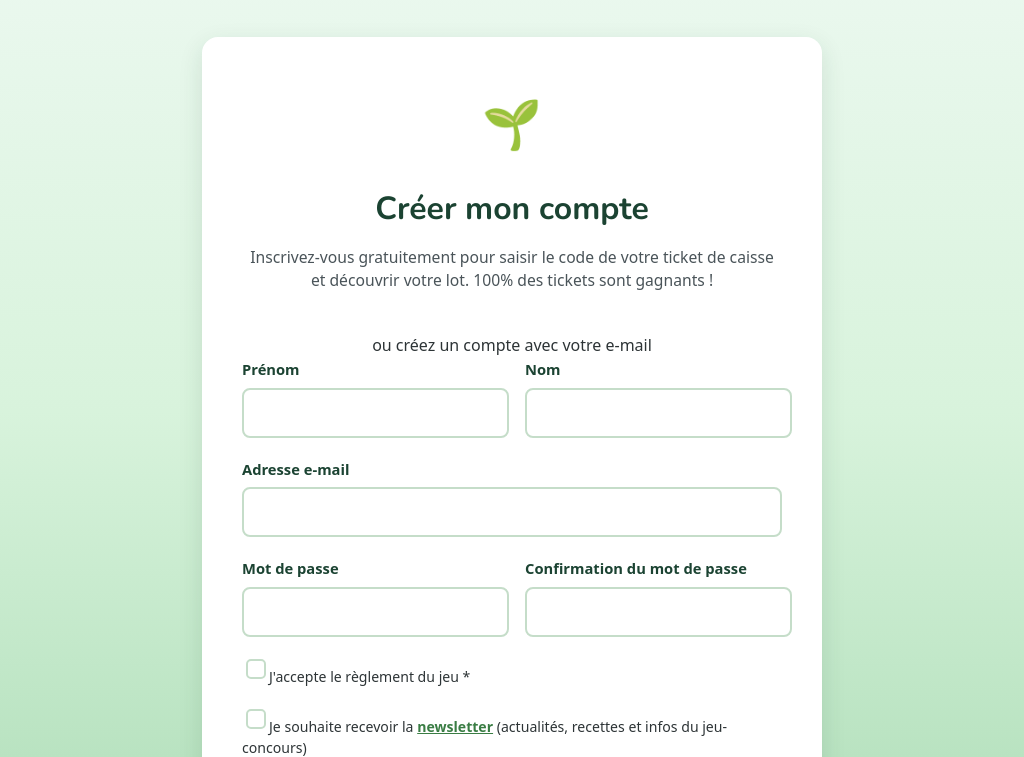
Test: Inscription › refuse un mot de passe trop court
Type "Jean" into the field labelled "Prénom".
click(376, 413); type("Jean")  # box [242,388,509,438]
Type "Dupont" into the field labelled "Nom".
click(658, 413); type("Dupont")  # box [525,388,792,438]
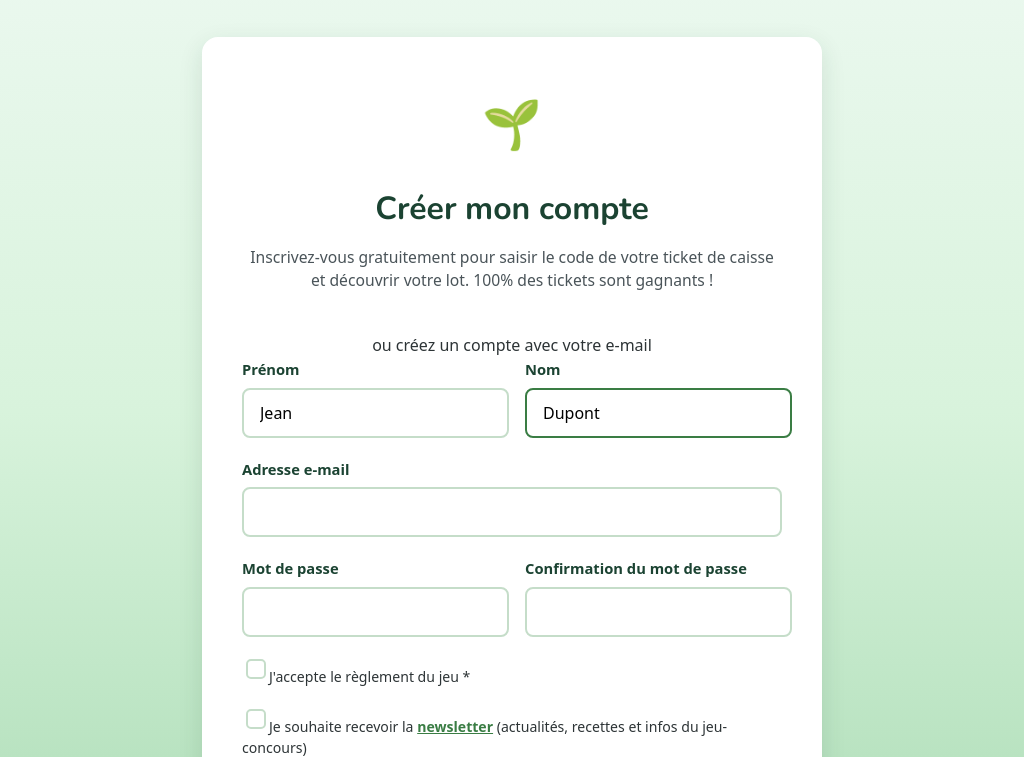
Type "jean@example.com" into the field labelled "Adresse e-mail".
click(512, 512); type("jean@example.com")  # box [242,487,782,537]
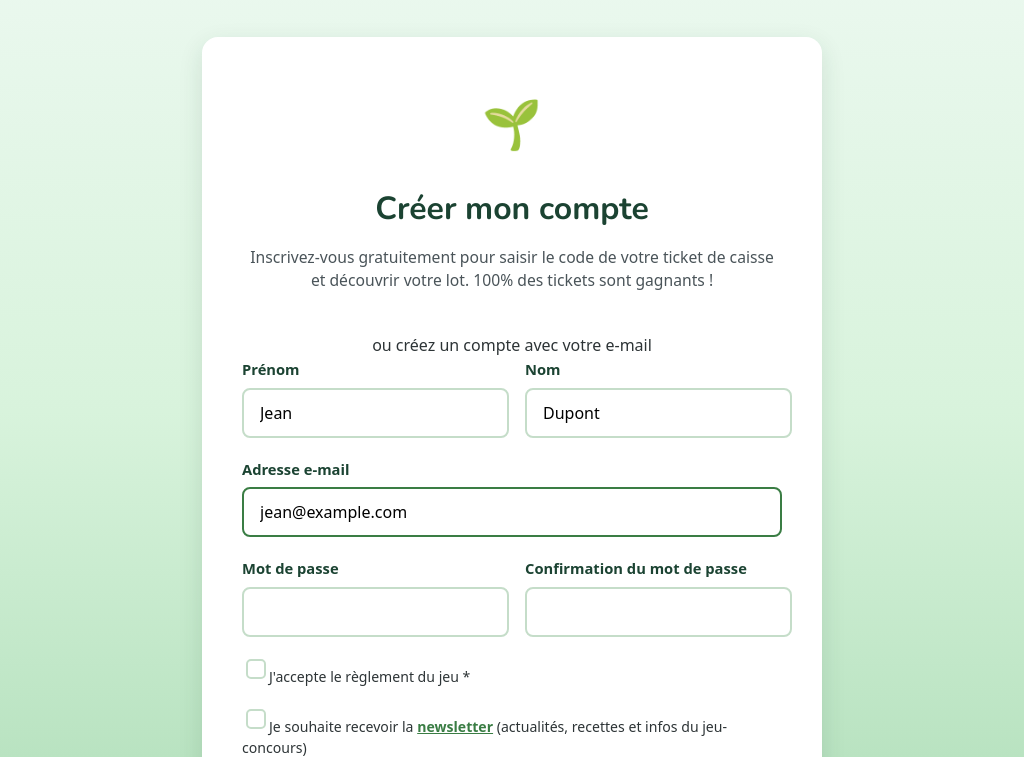
Type "Ab1!" into the password field labelled "Mot de passe".
click(376, 612); type("Ab1!")  # box [242,587,509,637]
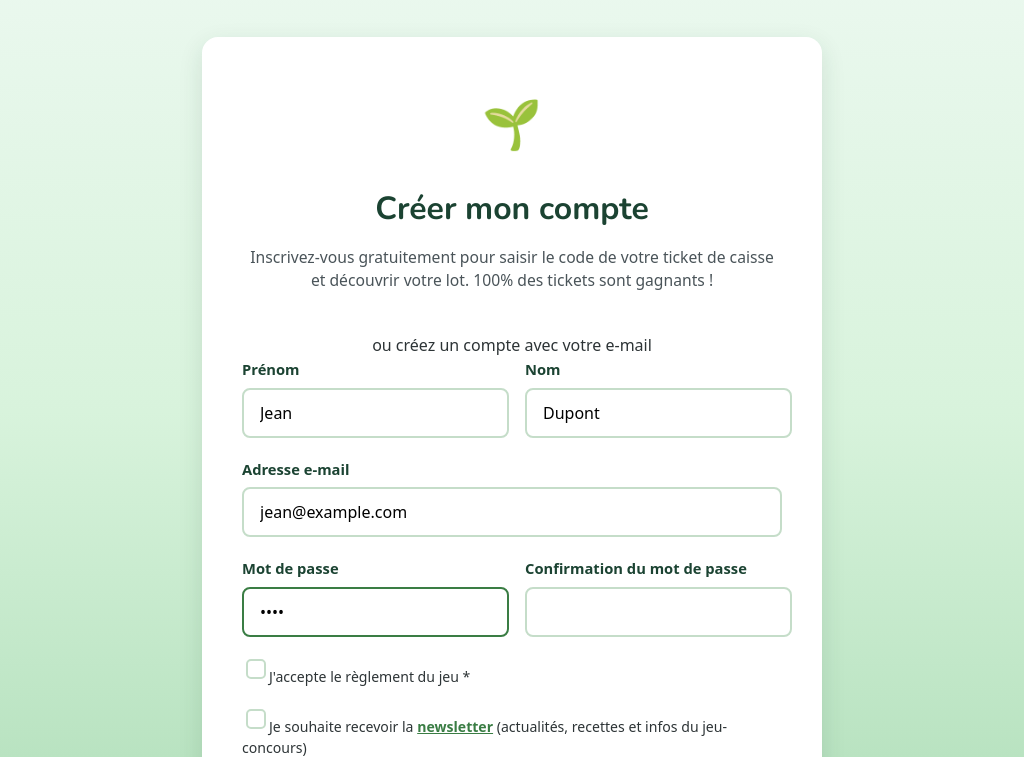
Type "Ab1!" into the password field labelled "Confirmation du mot de passe".
click(658, 612); type("Ab1!")  # box [525,587,792,637]
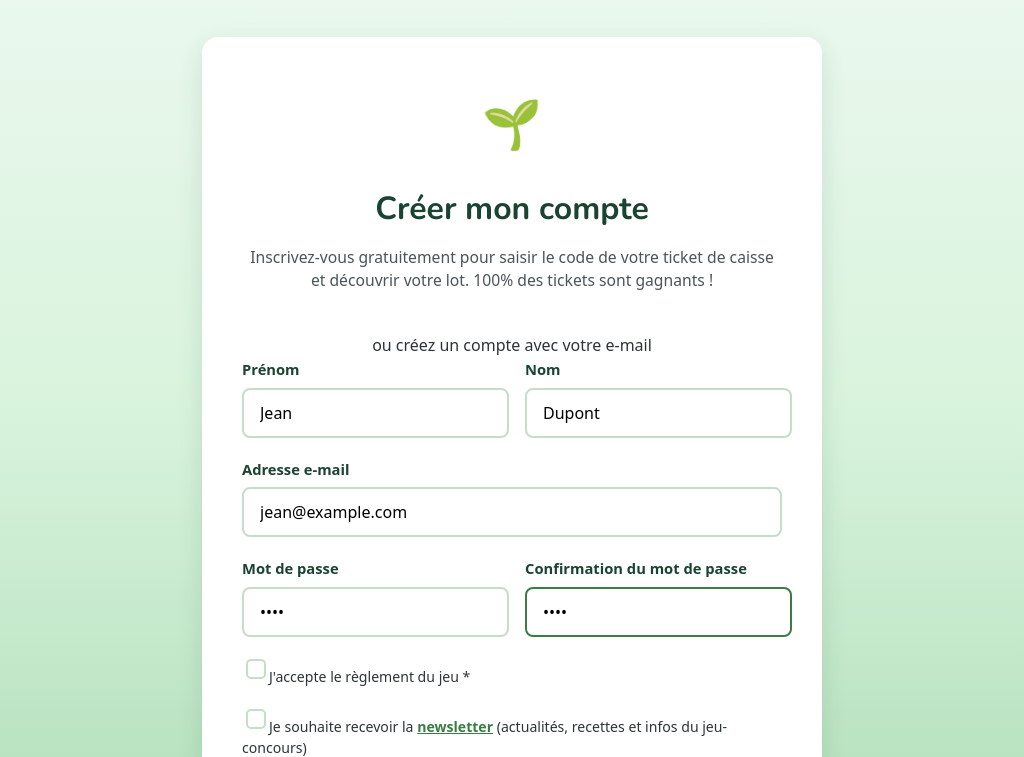
Click the checkbox labelled "J'accepte le règlement du jeu *".
click(256, 669)  # box [246,659,266,679]
(page scrolled)
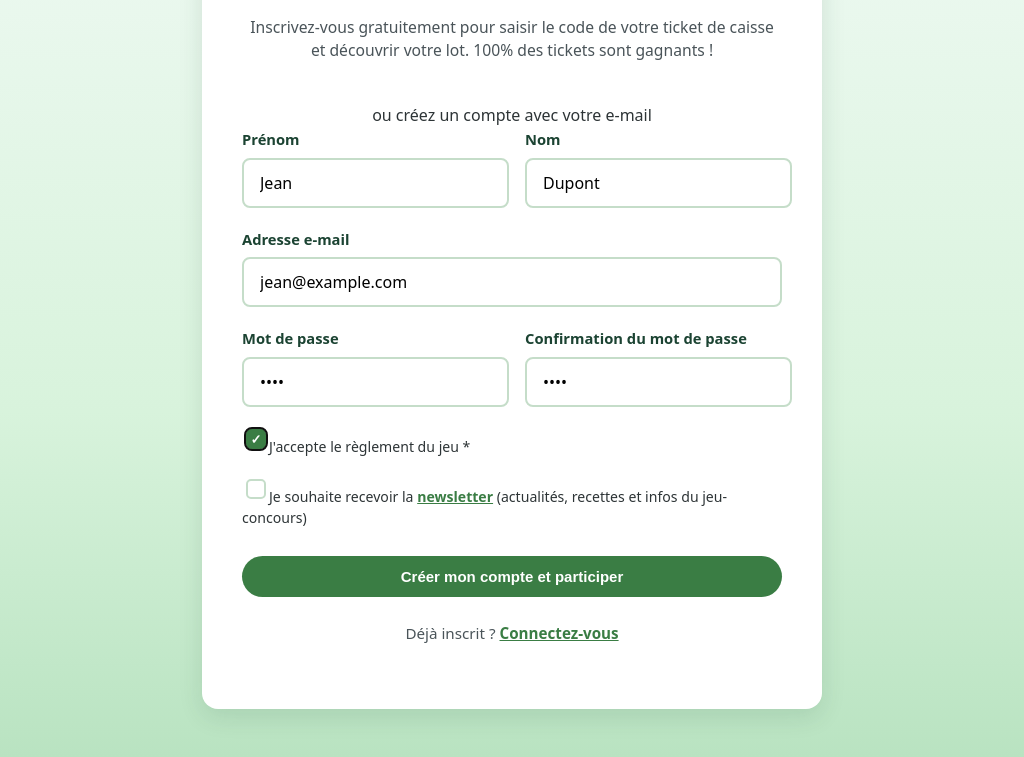
Click the button "Créer mon compte et participer".
click(512, 577)  # box [242,556,782,597]
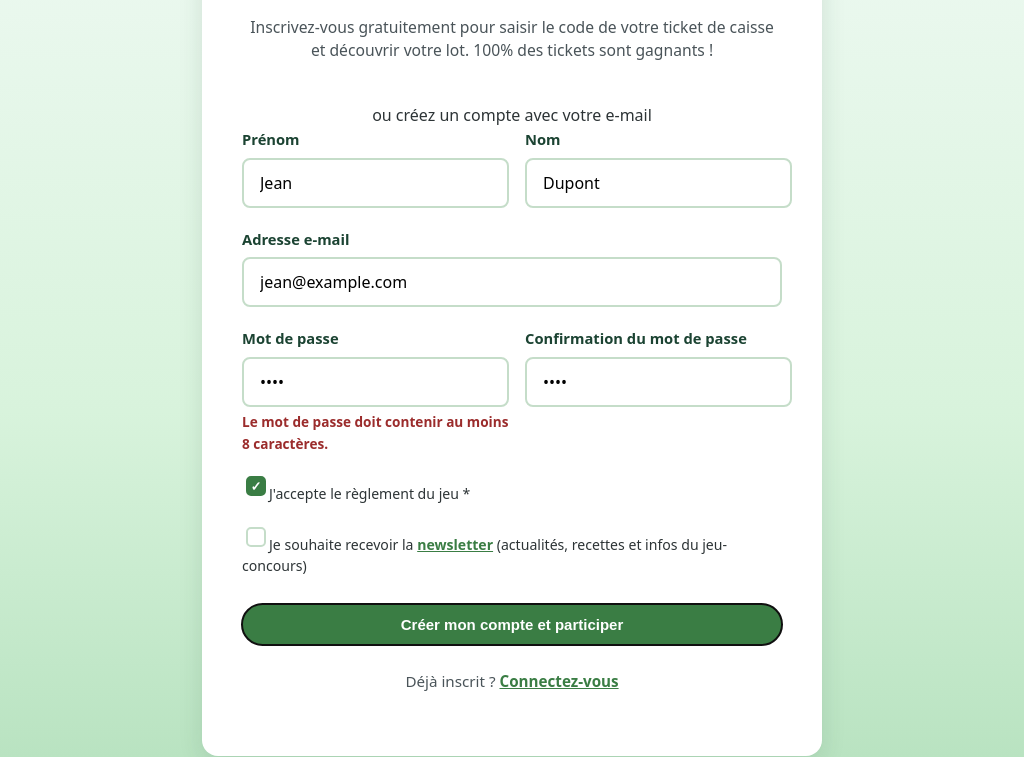
Now the text "Le mot de passe doit contenir au moins 8 caractères." is shown, box [242,411,509,454]
